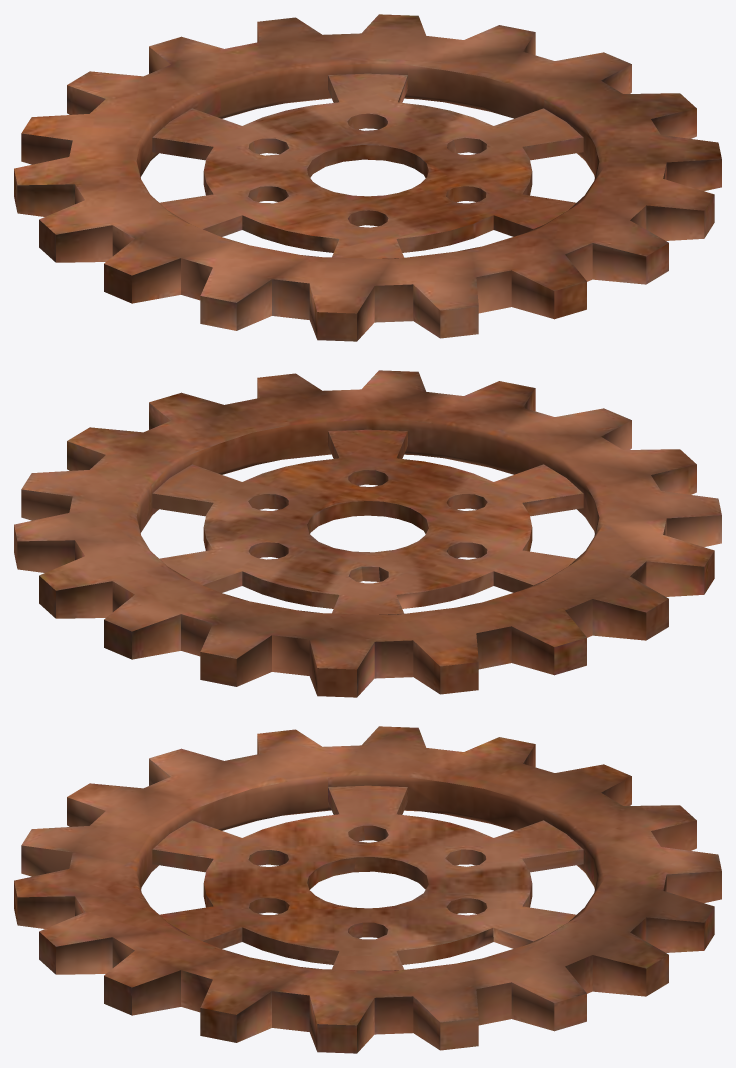
The model's file is steampunk_gear_12.glb.
3 views of the same model, one above another, from view 1: azimuth 30°, elevation 25°; view 2: azimuth 150°, elevation 25°; view 3: azimuth 270°, elevation 25° (orthographic).
Parts seen in each view (by area): view 1: steampunk_gear_12; view 2: steampunk_gear_12; view 3: steampunk_gear_12.
Part boxes in pixels (bbox=[...]): steampunk_gear_12: bbox=[14, 14, 721, 341]; steampunk_gear_12: bbox=[14, 370, 721, 697]; steampunk_gear_12: bbox=[14, 726, 721, 1053].
Size of what is drawn, in the model's own units: 0.1514 by 0.00866 by 0.1514.
1 material, 1 textured.
